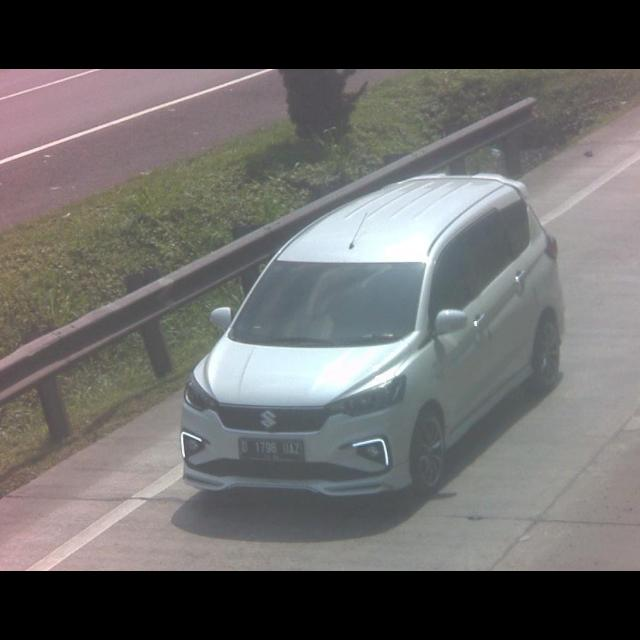plate: (235, 436, 302, 464)
